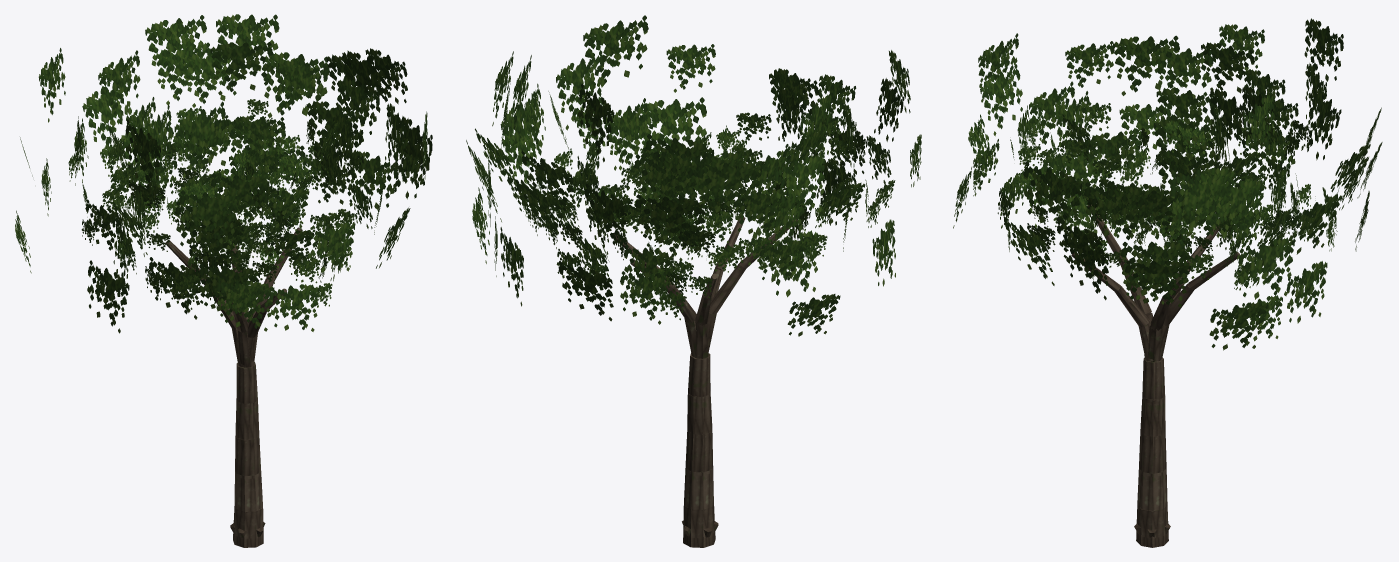
File: Oak.fbx
The picture shows the model from 3 angles, left to right: view 1: azimuth 30°, elevation 25°; view 2: azimuth 150°, elevation 25°; view 3: azimuth 270°, elevation 25°; orthographic projection. The views are drawn at different scales.
Parts seen in each view (by area): view 1: Oak; view 2: Oak; view 3: Oak.
Boxes of the visible parts, x1,y1,x2,y2 form: Oak: (15, 14, 432, 547); Oak: (466, 15, 921, 547); Oak: (953, 18, 1382, 547).
Size of the model in its own units: 10.28 by 11.89 by 10.14.
